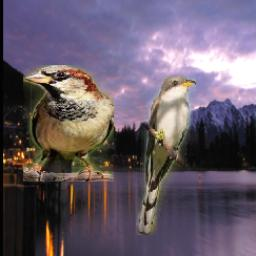Cuckoo: (137, 76, 197, 236)
Sparrow: (23, 66, 114, 183)
